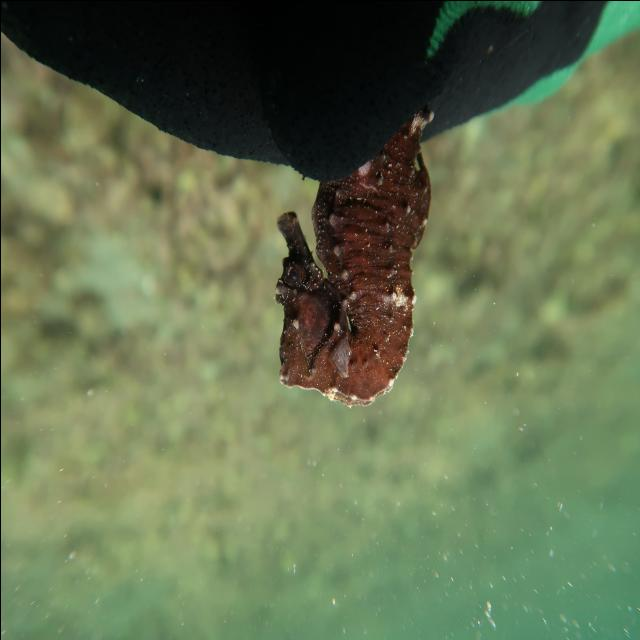Hippo: (264, 199, 354, 417)
